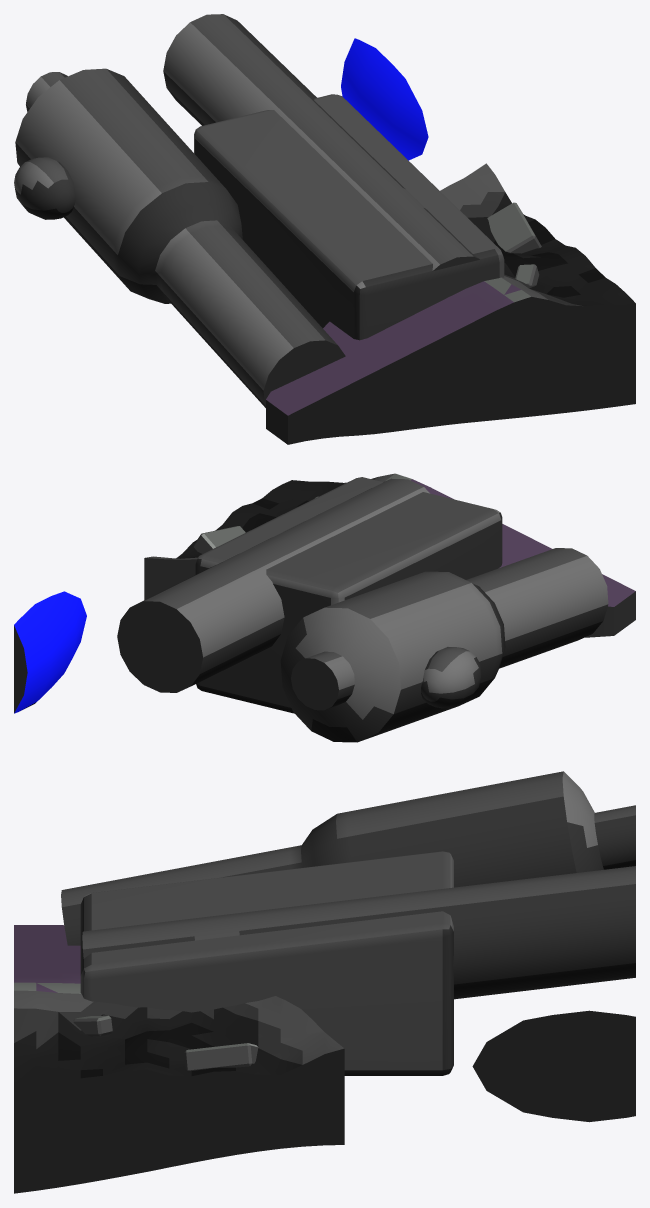
Rendered from camanis_boss_87.glb.
The picture shows the model from 3 angles, top to bottom: view 1: azimuth 30°, elevation 25°; view 2: azimuth 150°, elevation 25°; view 3: azimuth 270°, elevation 25°; orthographic projection. The views are drawn at different scales.
Visible parts, largest first — view 1: camanis_boss_87; view 2: camanis_boss_87; view 3: camanis_boss_87.
Boxes of the visible parts, x1=… form: camanis_boss_87: x1=14, y1=14, x2=635, y2=444; camanis_boss_87: x1=14, y1=473, x2=635, y2=742; camanis_boss_87: x1=14, y1=771, x2=635, y2=1193.
Size of the model in its own units: 23 by 12.46 by 28.
